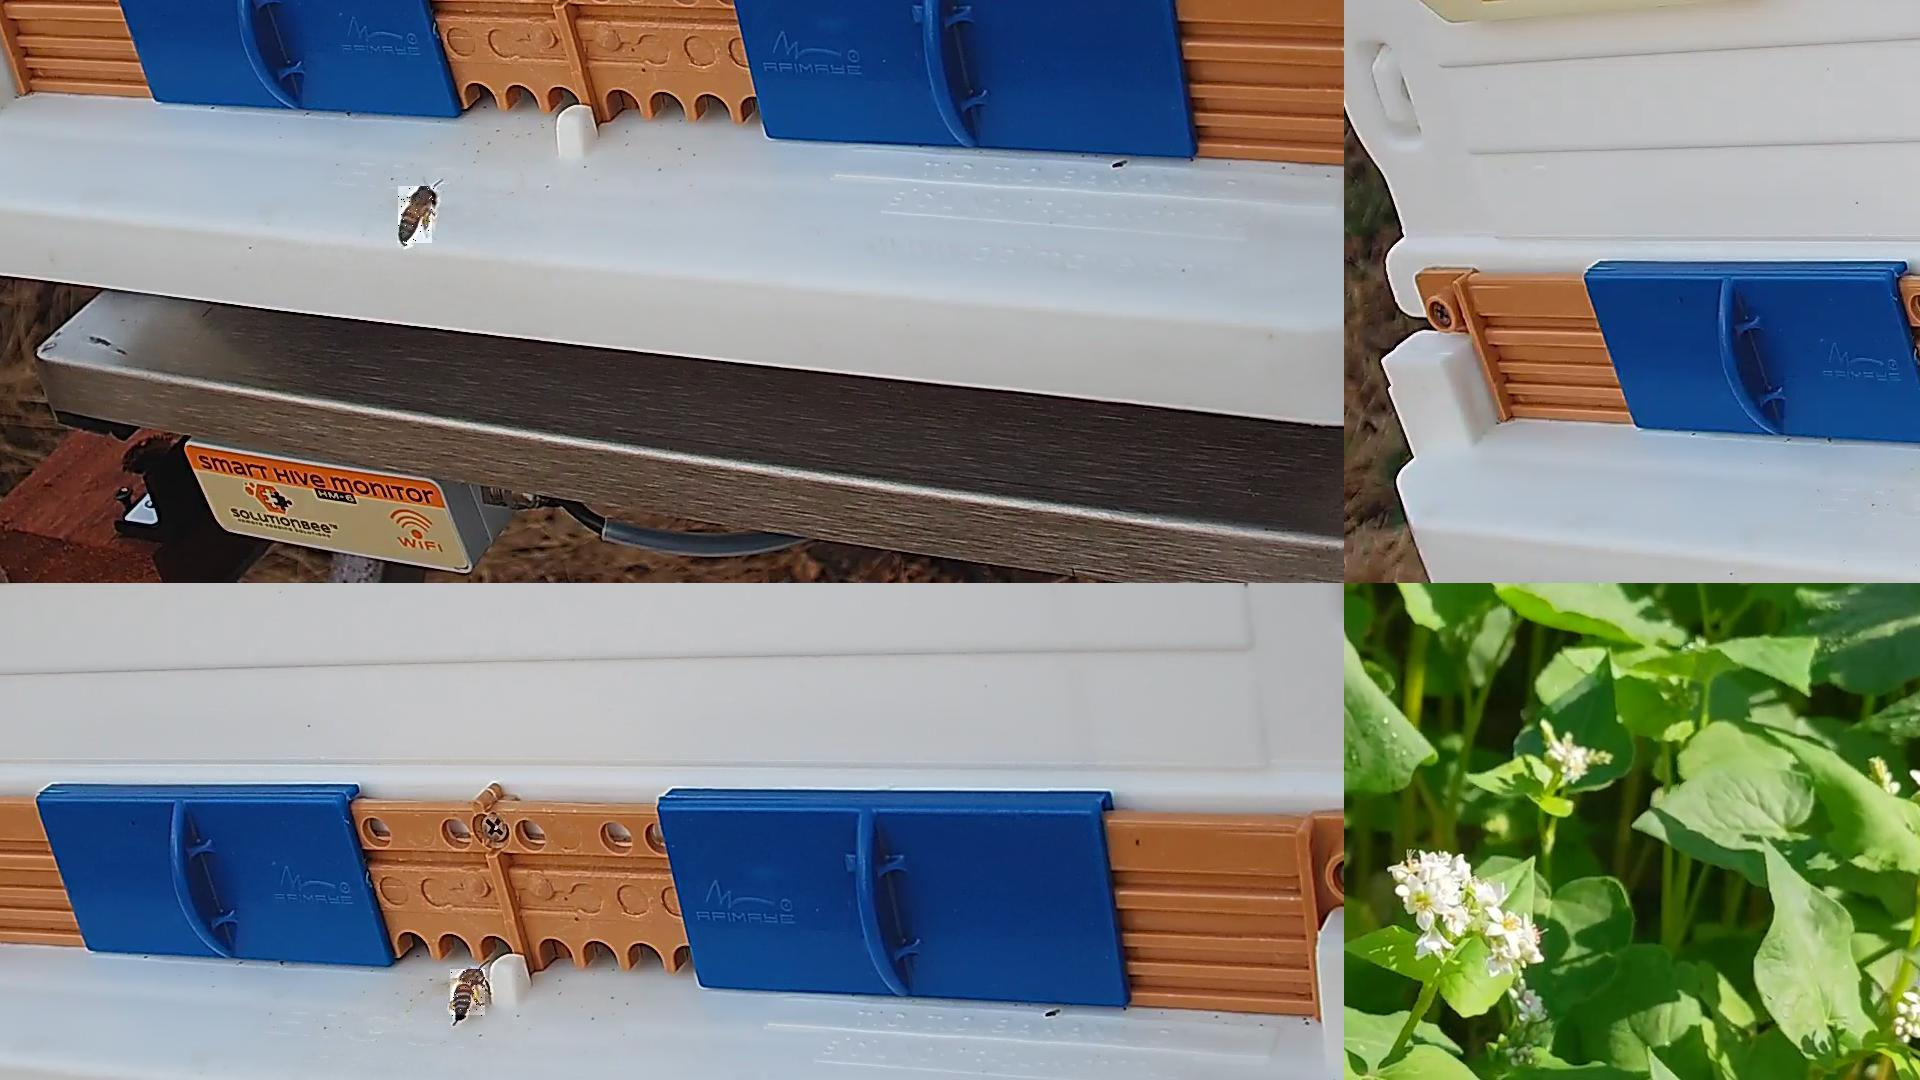pollenbee: (398, 187, 435, 247), (450, 969, 487, 1019)
